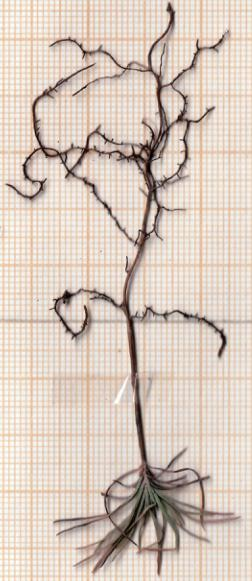flower: (47, 454, 241, 581)
root: (2, 0, 244, 362)
stem: (121, 324, 154, 459)
